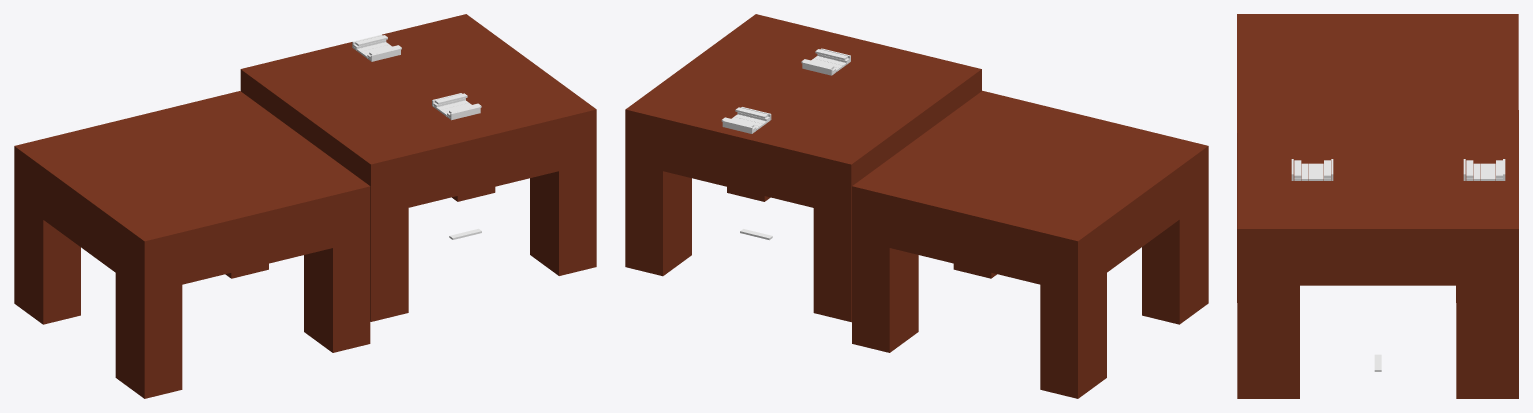
The model's file is keva_double_station_two_hands.dae.
3 views of the same model, side by side, from view 1: azimuth 30°, elevation 25°; view 2: azimuth 150°, elevation 25°; view 3: azimuth 270°, elevation 25° (orthographic). The views are drawn at different scales.
Parts seen in each view (by area): view 1: base (×7); view 2: base (×7); view 3: base (×4).
Boxes of the visible parts, <box> form: base (×7): <box>14,14,596,398</box>; base (×7): <box>625,14,1208,398</box>; base (×4): <box>1237,14,1518,398</box>.
Size of the model in its own units: 1.8 by 0.9009 by 0.7055.
